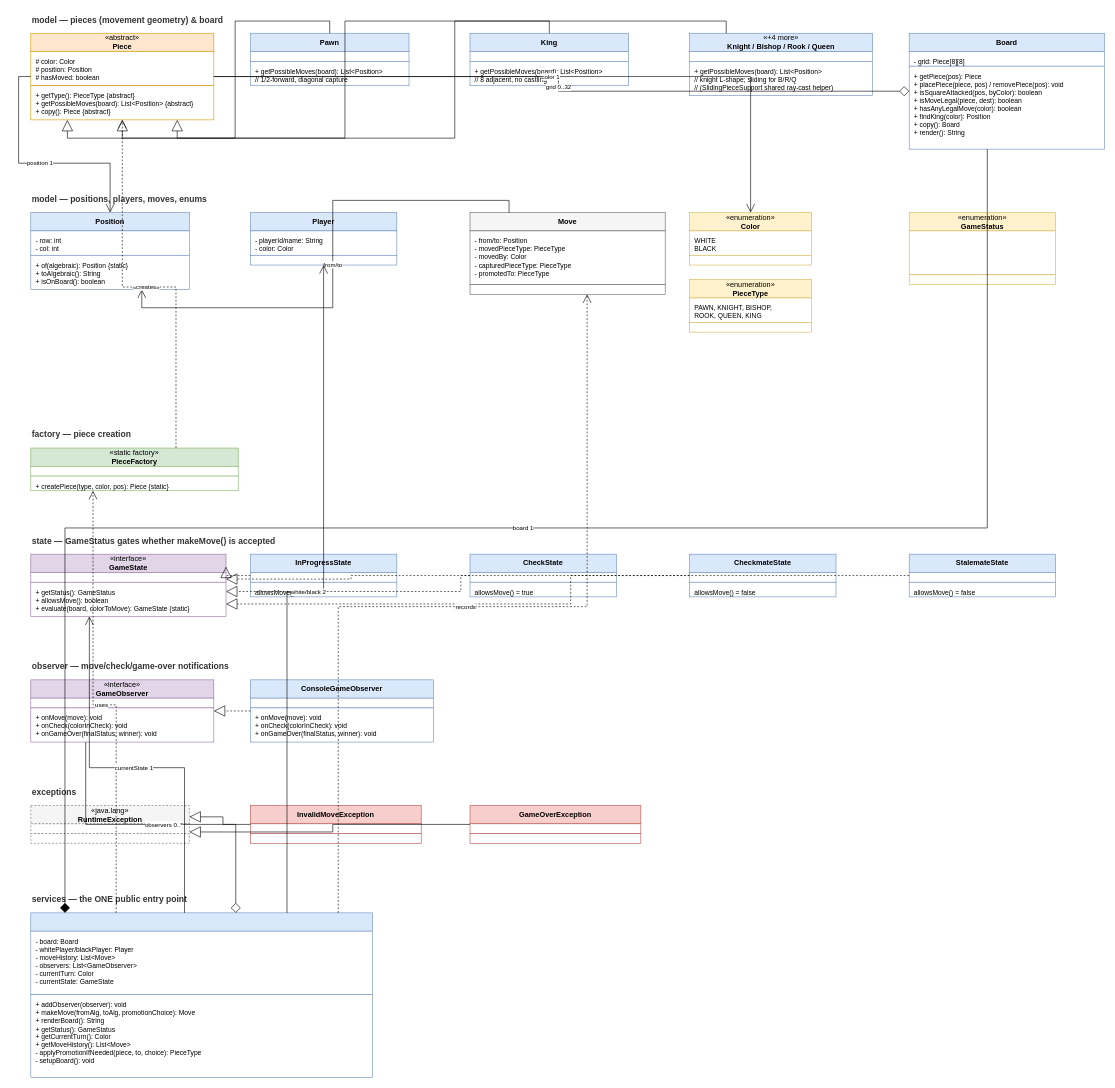
Image size: 1115x1088. Some labels were removed from this diagram. Here are the shapes that lost their labels. From the top down, the centre of each, then its label:
point (982, 252): IN_PROGRESS CHECK CHECKMATE STALEMATE
point (201, 921): ChessGameService
